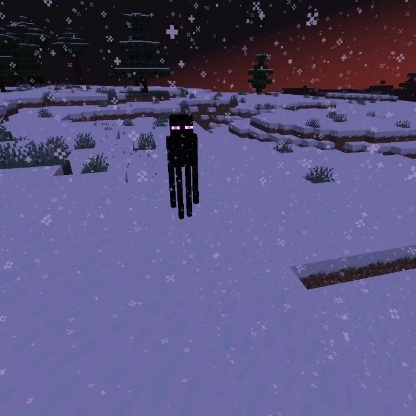enderman: (164, 112, 202, 221)
